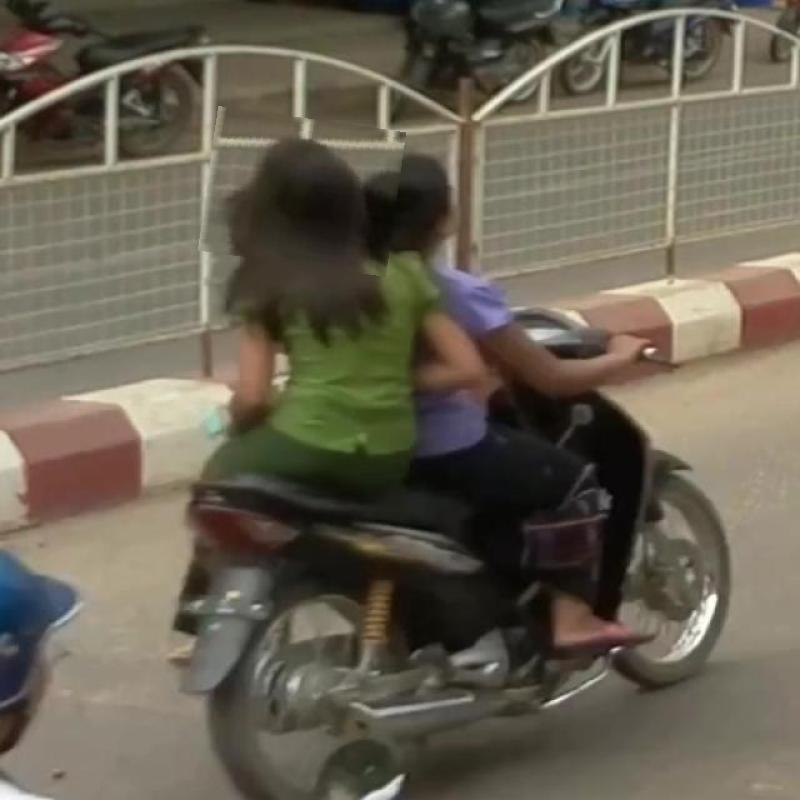nohelmet: (203, 112, 402, 272)
